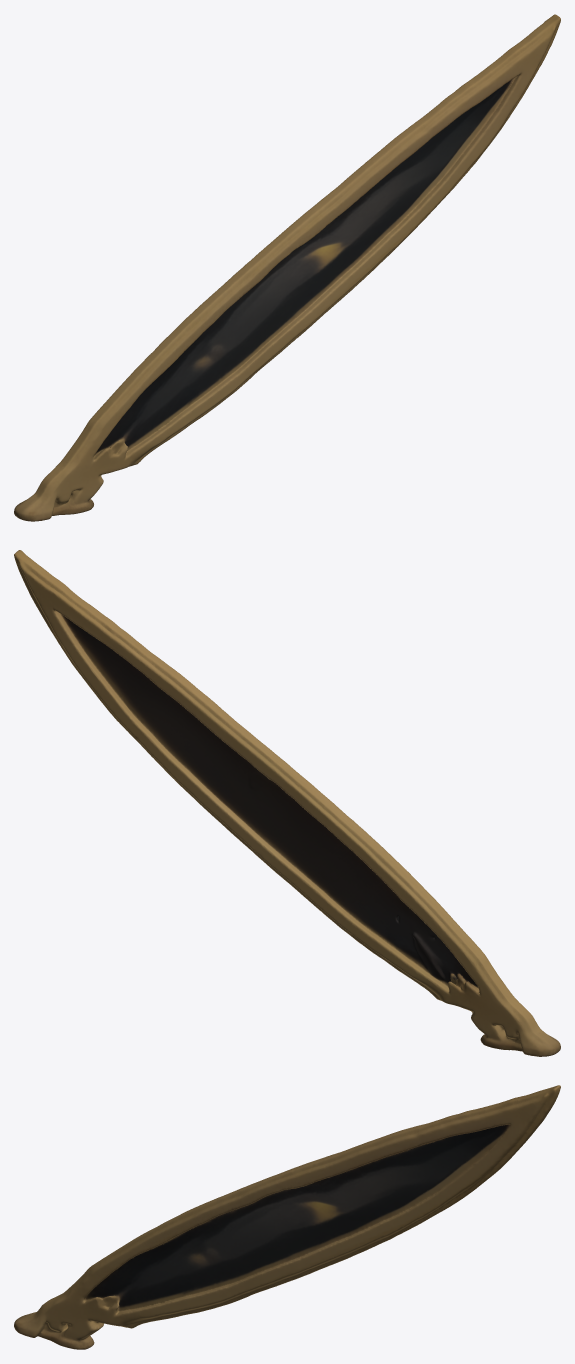
Rendered from ear_single_ref-5.glb.
3 renders of one model, top to bottom at view 1: azimuth 30°, elevation 25°; view 2: azimuth 150°, elevation 25°; view 3: azimuth 330°, elevation 25°, orthographic.
Bounding box in the file's own units: 1 × 0.6629 × 0.055.
1 material, 1 textured.
